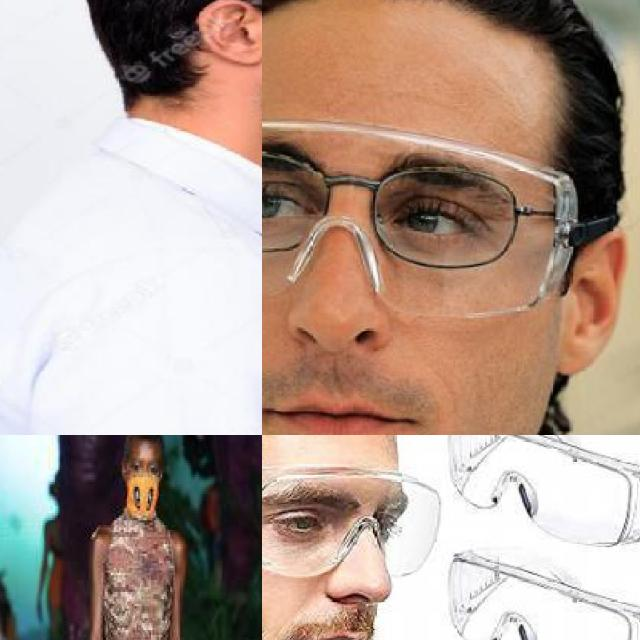No_Ear-Protection: (197, 0, 262, 67)
face_mask: (124, 456, 160, 510)
face_nomask: (262, 159, 517, 435), (262, 474, 403, 640)
glasses: (262, 115, 580, 324), (262, 145, 532, 283), (262, 461, 440, 580)
head_nohelmet: (262, 0, 593, 64), (123, 435, 162, 460)
person: (0, 0, 262, 435), (80, 435, 202, 640)
